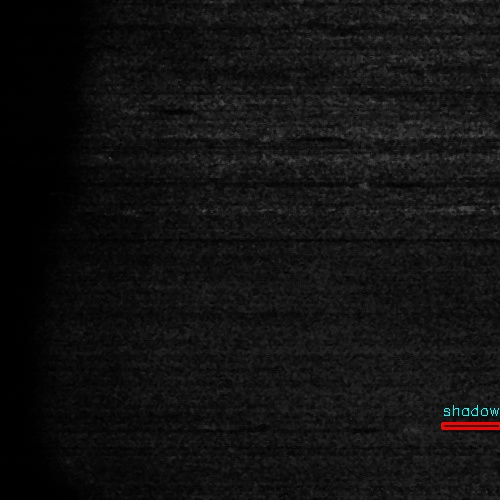rock: (384, 423, 467, 430), (486, 157, 500, 162)
shadow: (426, 423, 500, 430)
